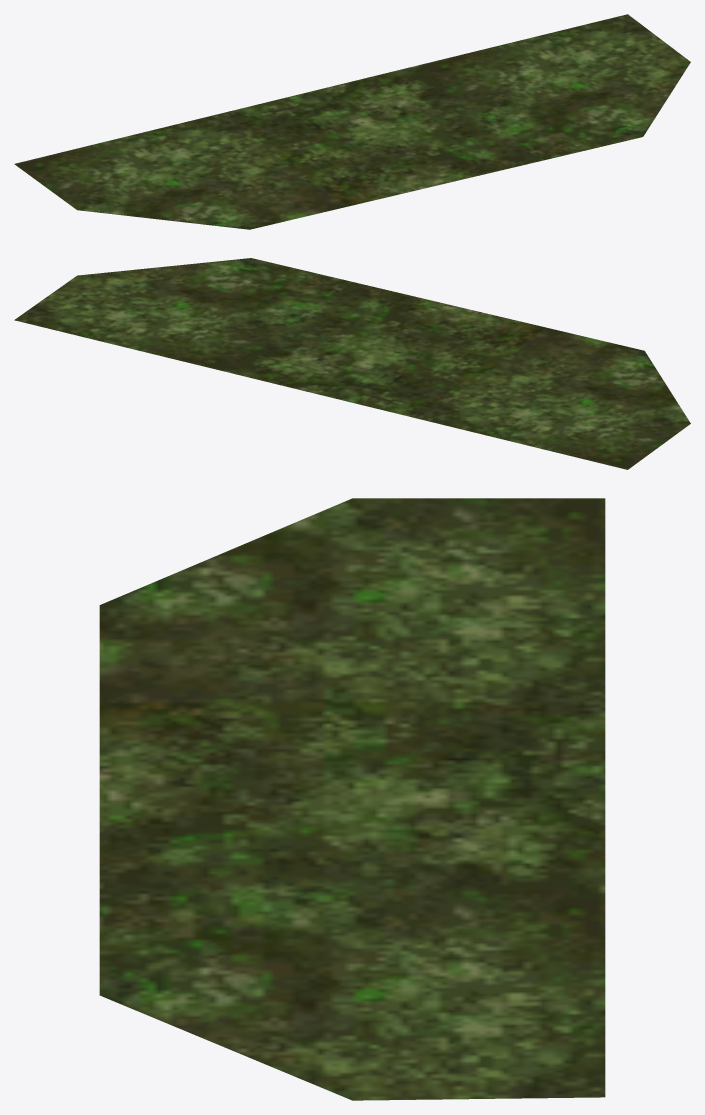
The model's file is OVERHILL_A_01_LINE183.fbx.
3 views of the same model, one above another, from view 1: azimuth 30°, elevation 25°; view 2: azimuth 150°, elevation 25°; view 3: azimuth 270°, elevation 25° (orthographic). The views are drawn at different scales.
Visible parts, largest first — view 1: OVERHILL_A_01_LINE183; view 2: OVERHILL_A_01_LINE183; view 3: OVERHILL_A_01_LINE183.
Boxes of the visible parts, box(x1,y1,x2,y2) form: OVERHILL_A_01_LINE183: box(14, 14, 690, 229); OVERHILL_A_01_LINE183: box(14, 258, 690, 469); OVERHILL_A_01_LINE183: box(99, 498, 605, 1100).
Size of the model in its own units: 56088 by 279 by 20000.
Materials: 1 (1 with a texture image).
